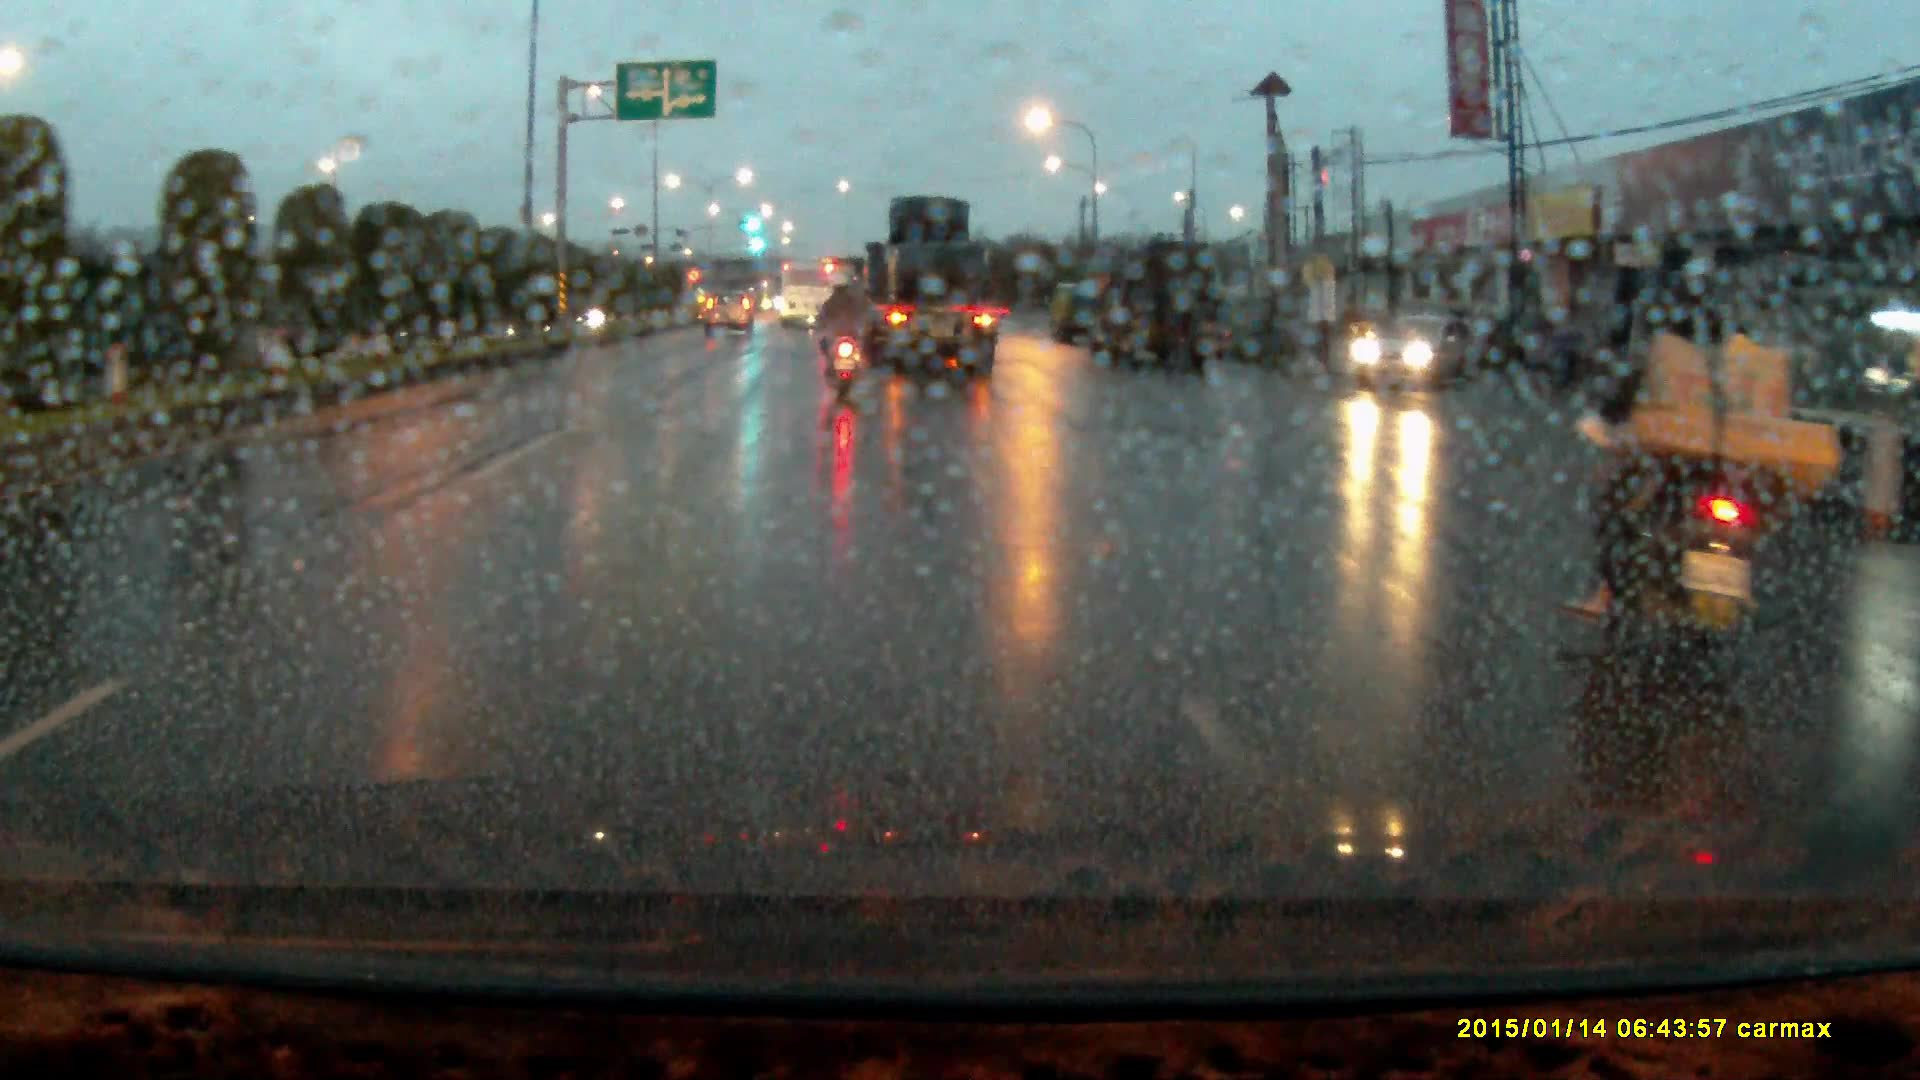rider: (1568, 249, 1856, 669), (818, 272, 874, 398)
vehicle: (854, 196, 993, 375), (1097, 239, 1235, 373), (1352, 313, 1479, 393), (781, 263, 847, 330), (1051, 281, 1102, 343), (704, 289, 756, 339)
